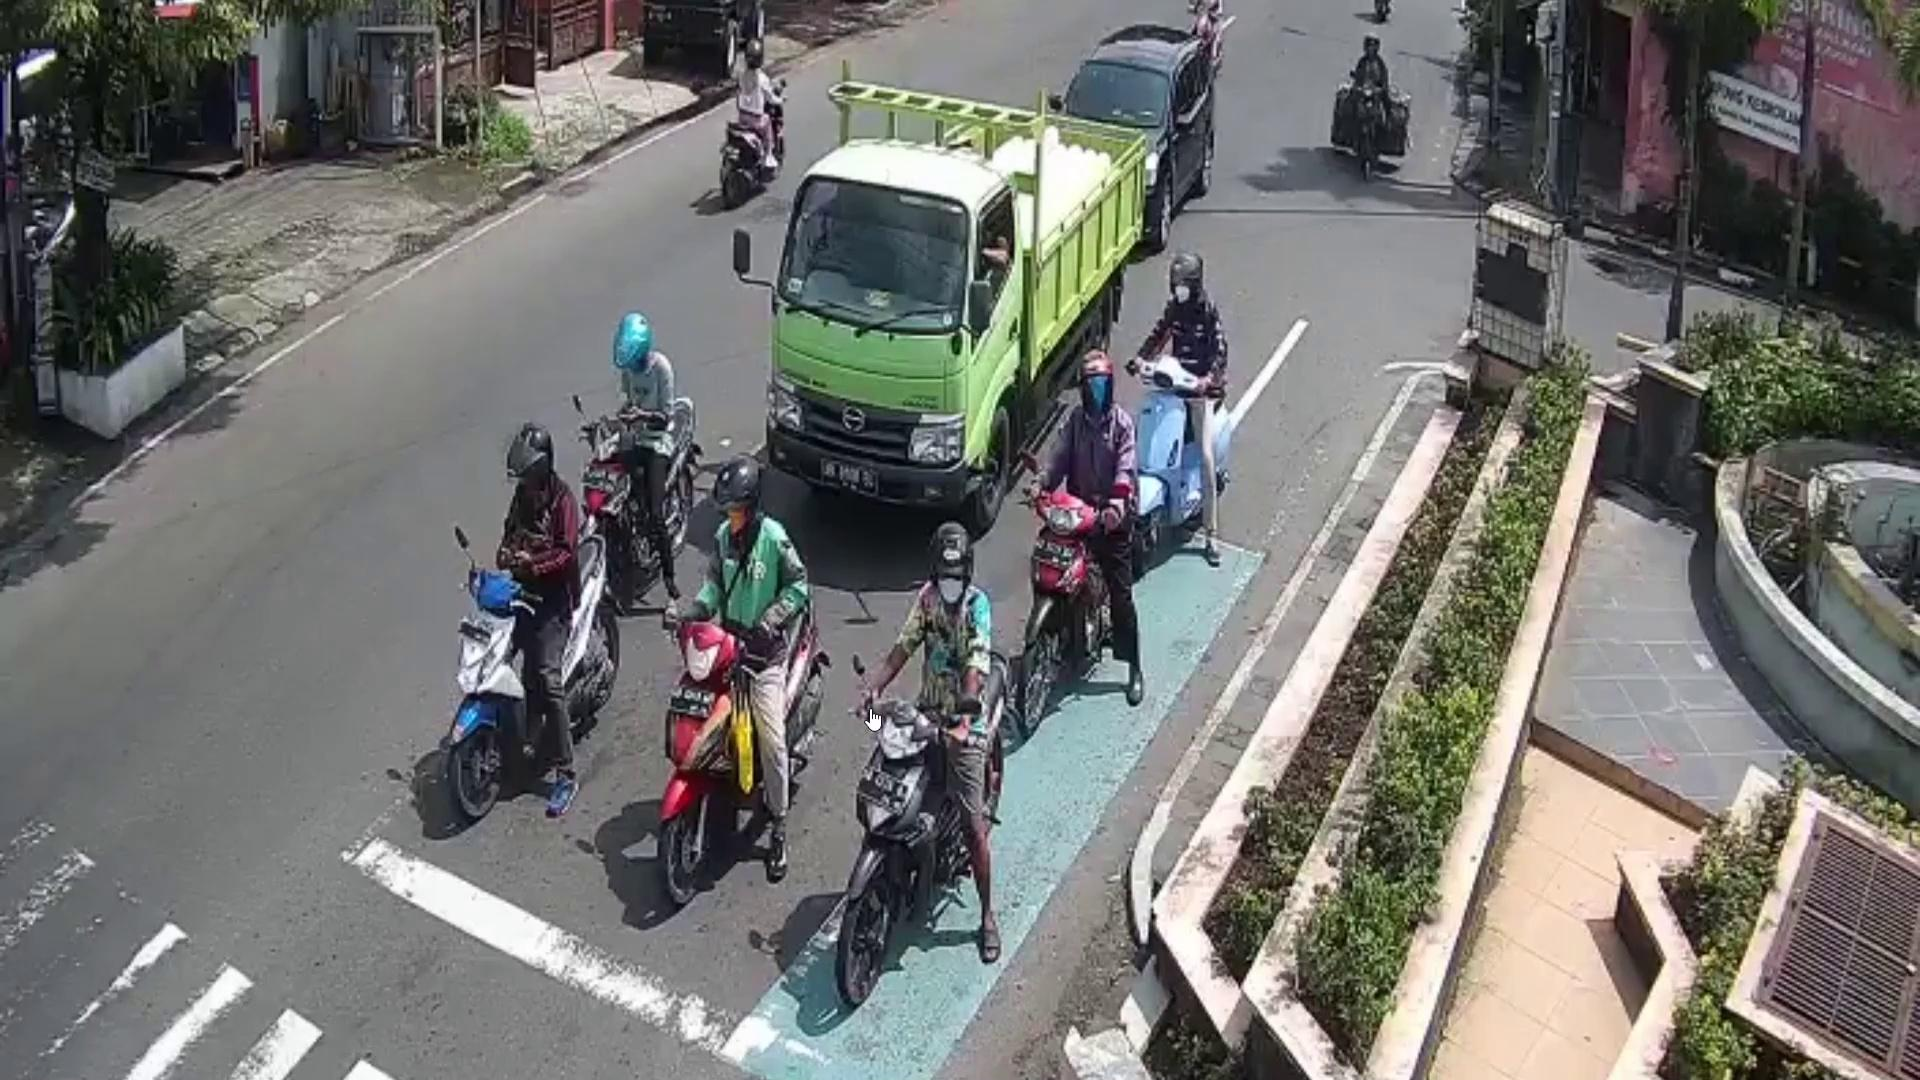car: (1054, 24, 1217, 240)
motorbike: (837, 646, 1015, 1005), (662, 588, 828, 907), (446, 529, 622, 823), (1017, 497, 1138, 733), (568, 396, 700, 580), (1127, 355, 1226, 563), (720, 82, 787, 204), (1354, 84, 1383, 169)
truck: (769, 75, 1150, 529)
